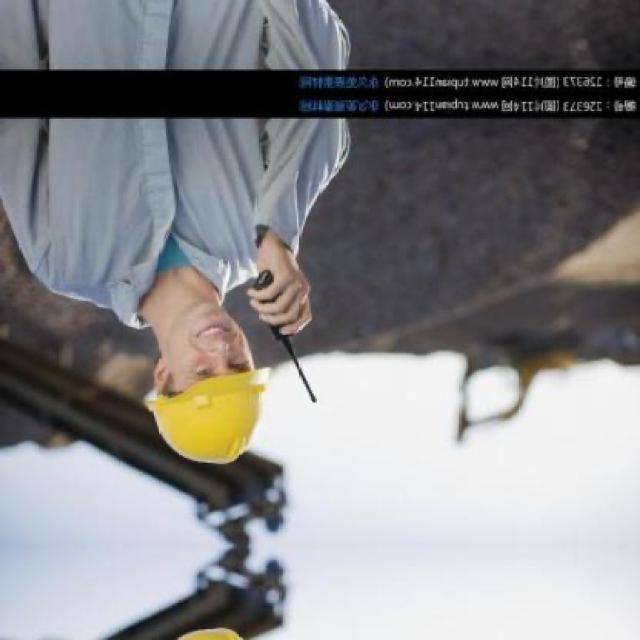con casco: (77, 235, 310, 491)
